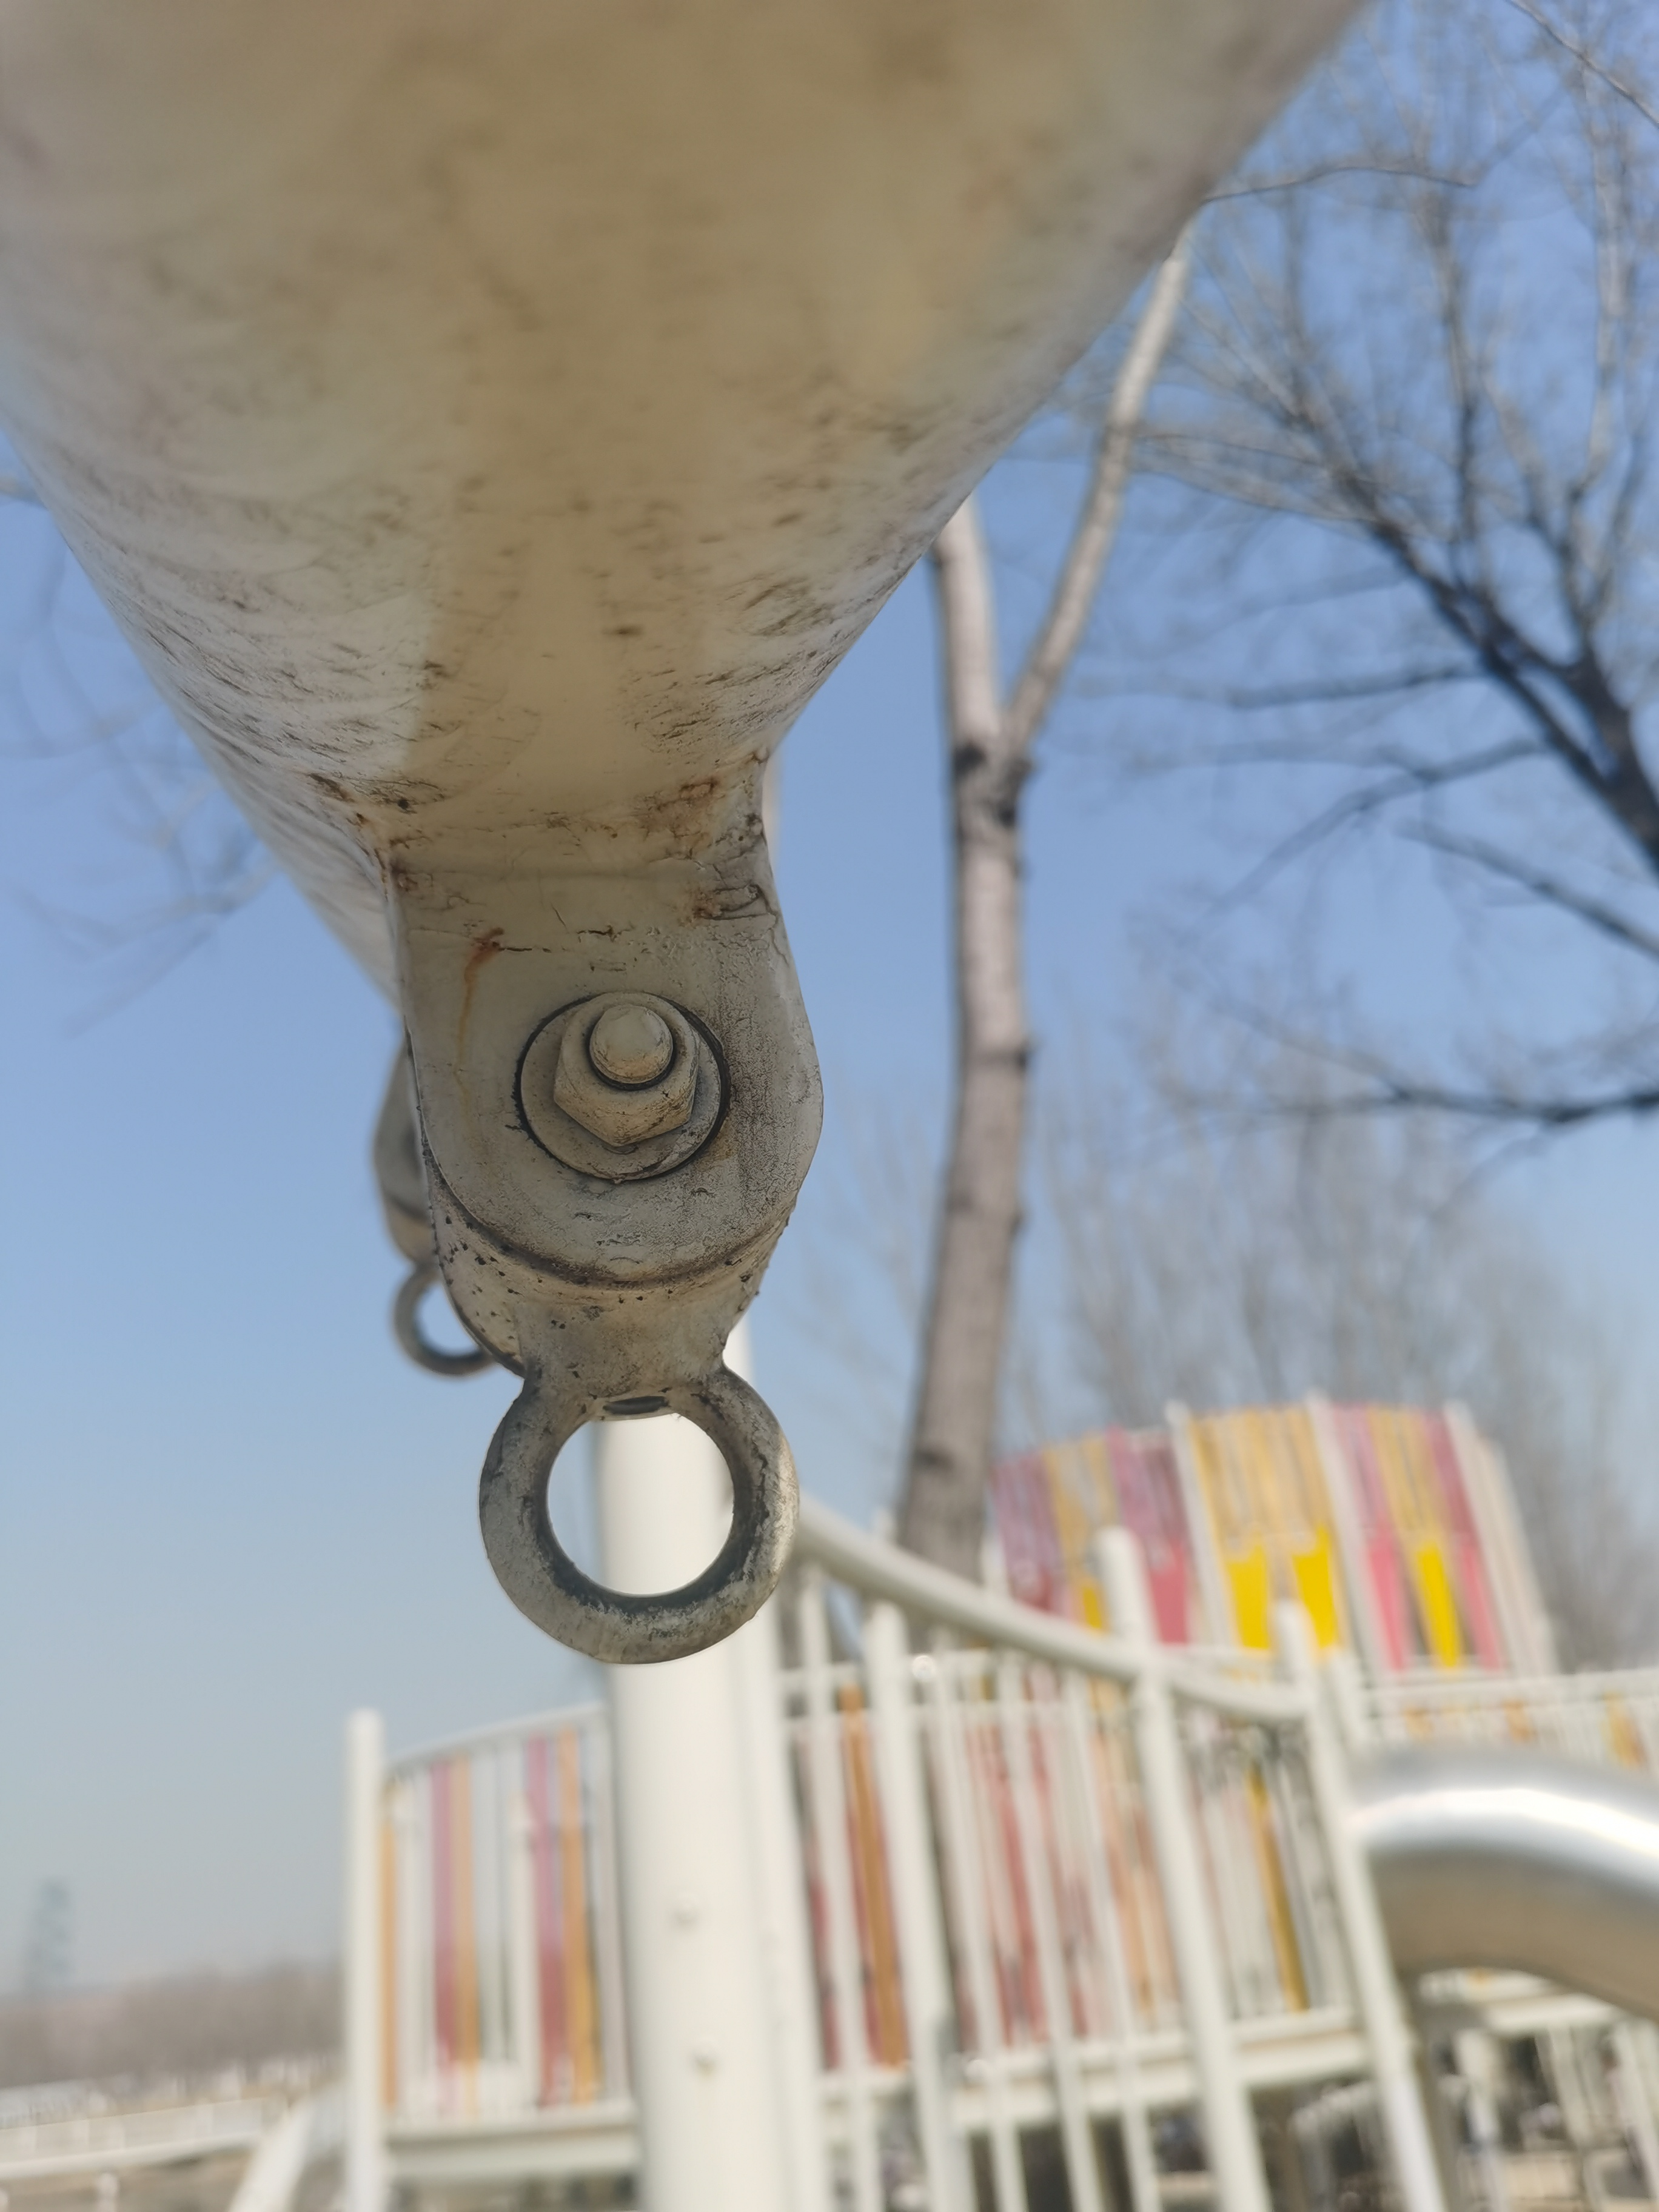bolt_b: (544, 977, 704, 1155)
